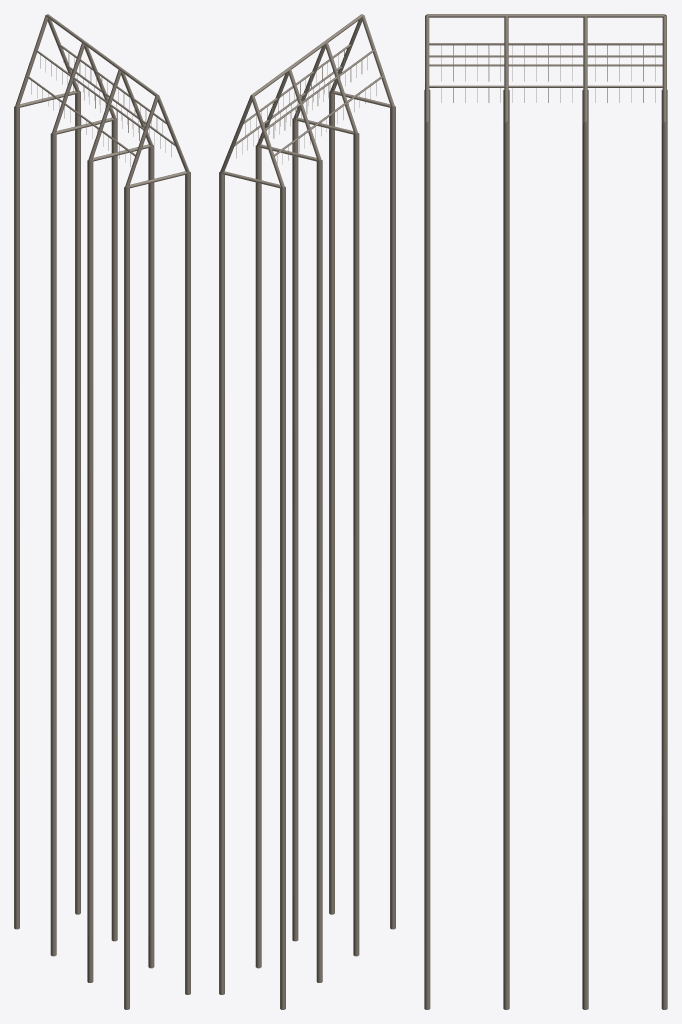
File: rack.glb
3 views of the same model, side by side, from view 1: azimuth 30°, elevation 25°; view 2: azimuth 150°, elevation 25°; view 3: azimuth 270°, elevation 25° (orthographic). The views are drawn at different scales.
Visible parts, largest first — view 1: rack; view 2: rack; view 3: rack.
Part boxes in pixels (bbox=[...]): rack: bbox=[14, 14, 190, 1009]; rack: bbox=[219, 14, 395, 1009]; rack: bbox=[424, 14, 667, 1009].
Size of the model in its own units: 3.43 by 45.47 by 10.26.
